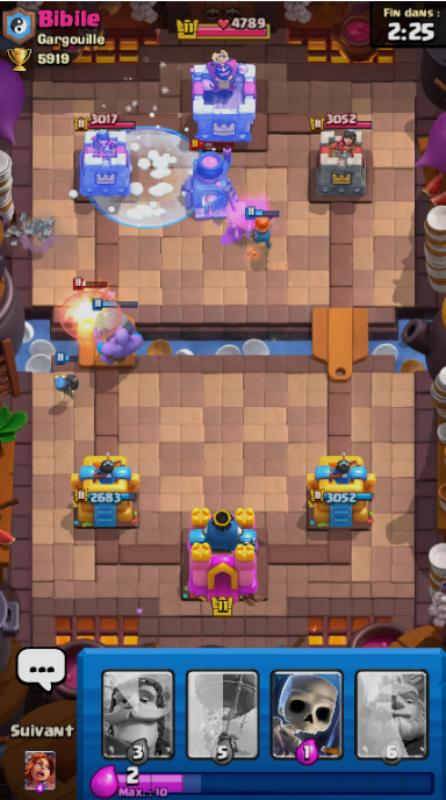valkyrie: (242, 202, 292, 254)
